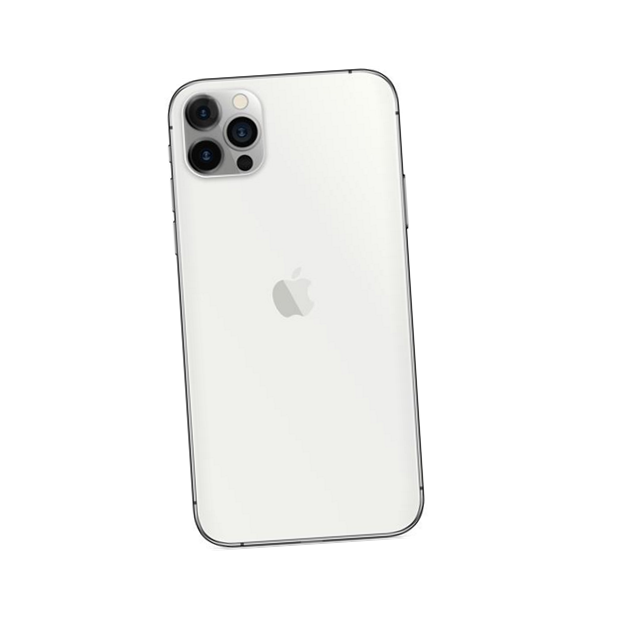iphone_12pro_silver: (145, 56, 463, 568), (175, 82, 274, 188)
